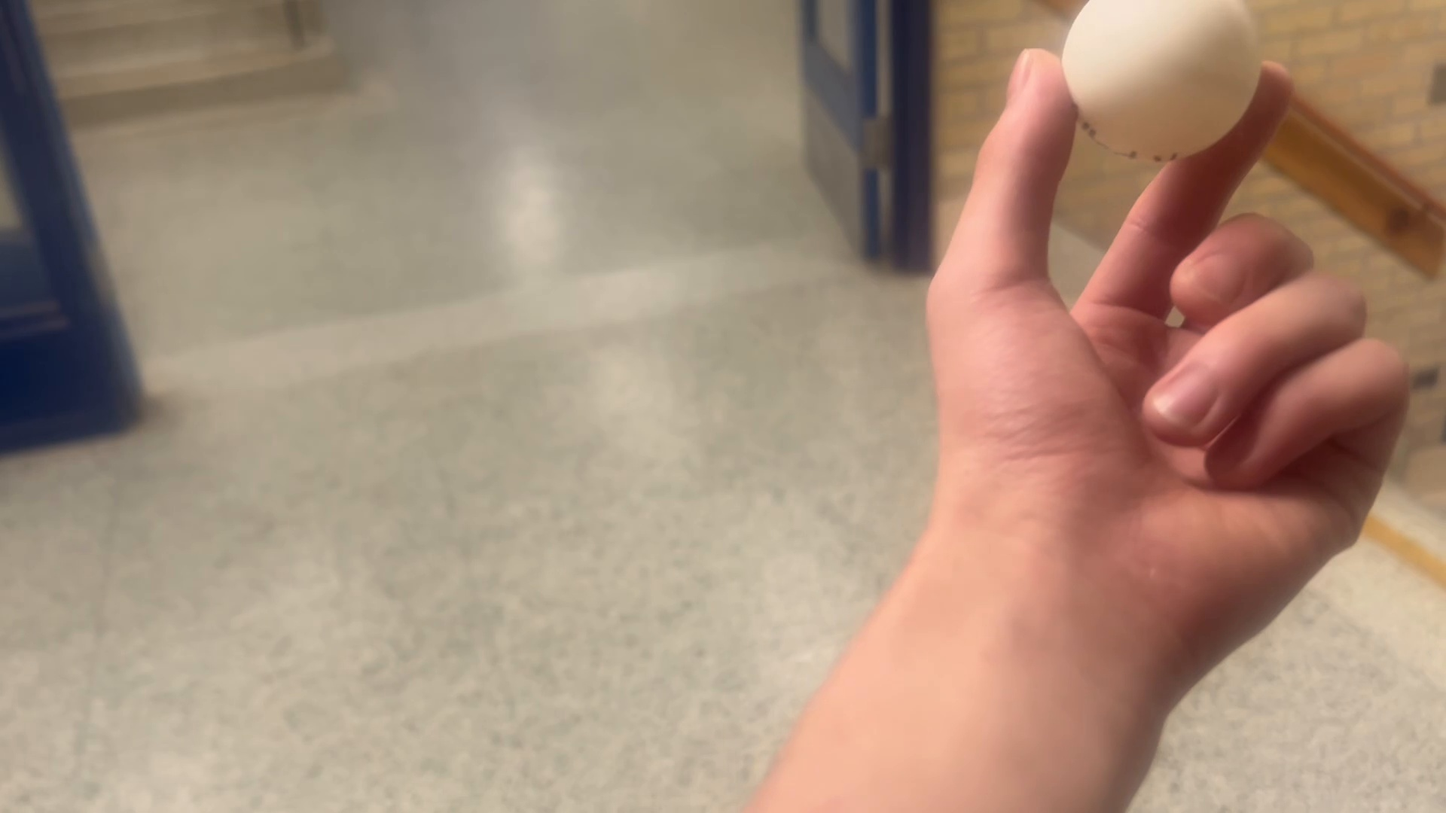Ball: (1040, 0, 1282, 158)
